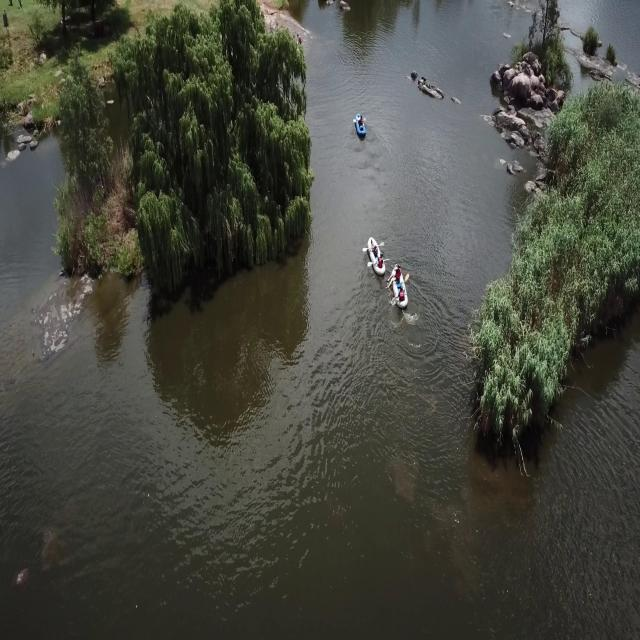kayak: (362, 236, 389, 274), (389, 260, 408, 312), (352, 112, 368, 140)
